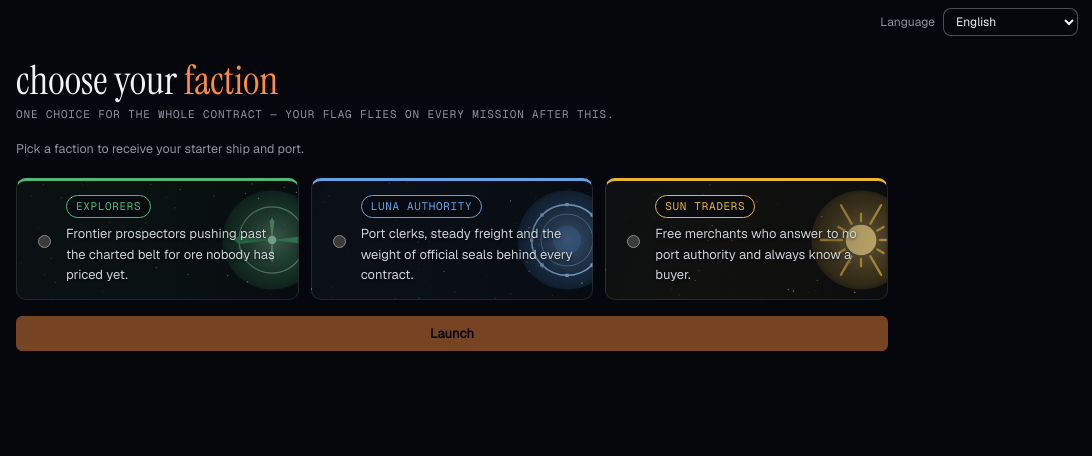
onboarding (S10.2) › surfaces a translated server rejection
The image size is (1092, 456).
Click the radio button labelled "Luna Authority" at (339, 242), box [333,235,346,248]
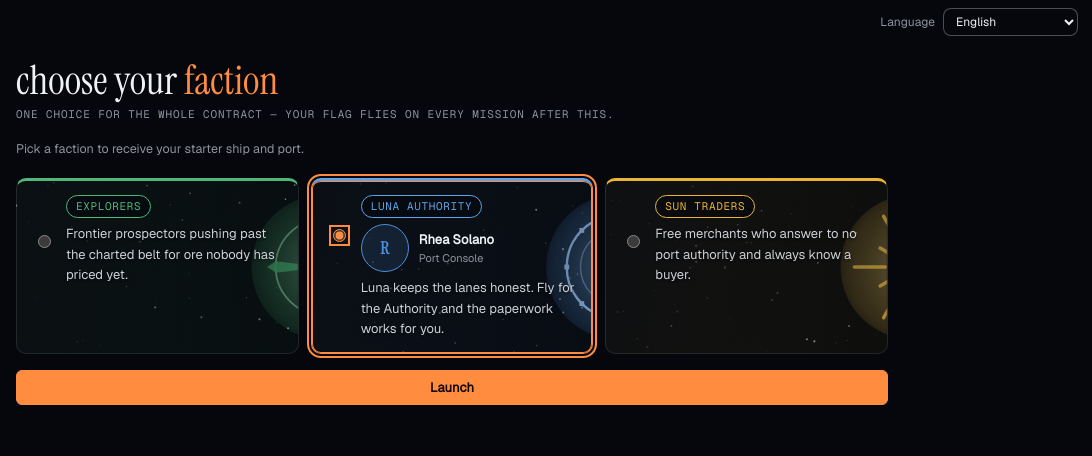
Click the button "Launch" at (452, 388), box [16,370,888,406]
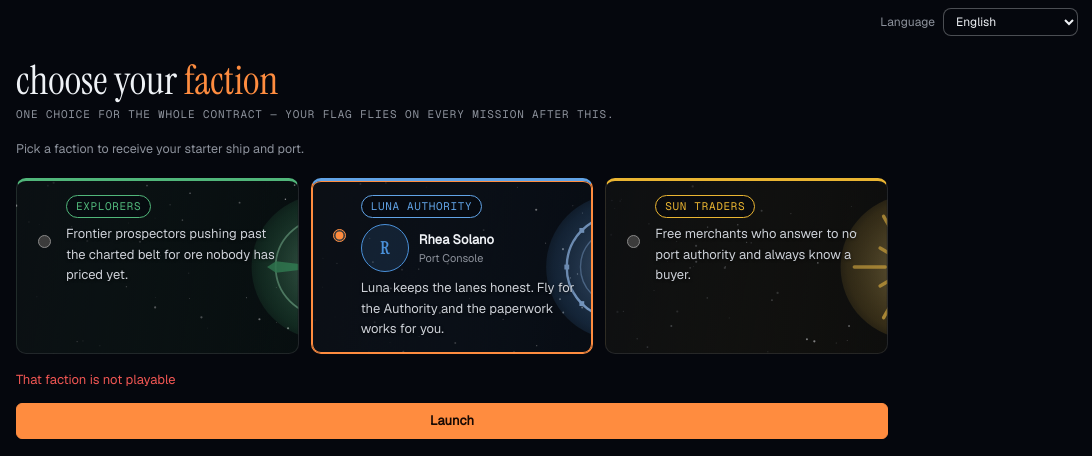
Expected: the text "That faction is not playable" is shown, [16,371,176,388]
